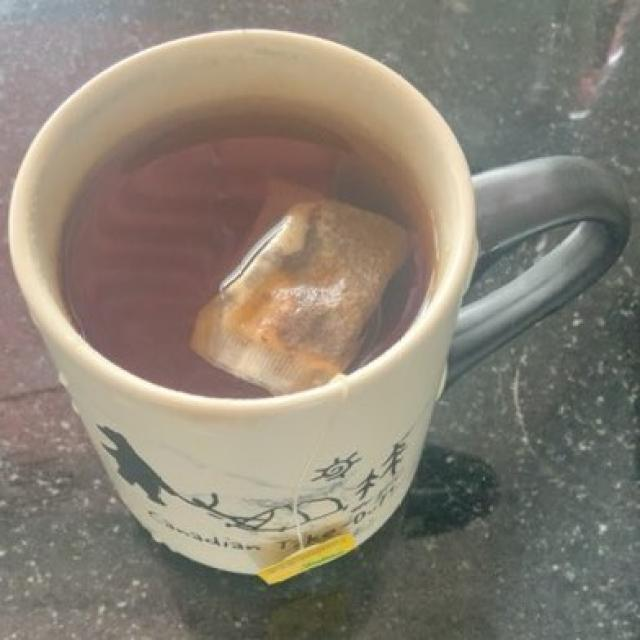tea: (74, 142, 416, 395)
